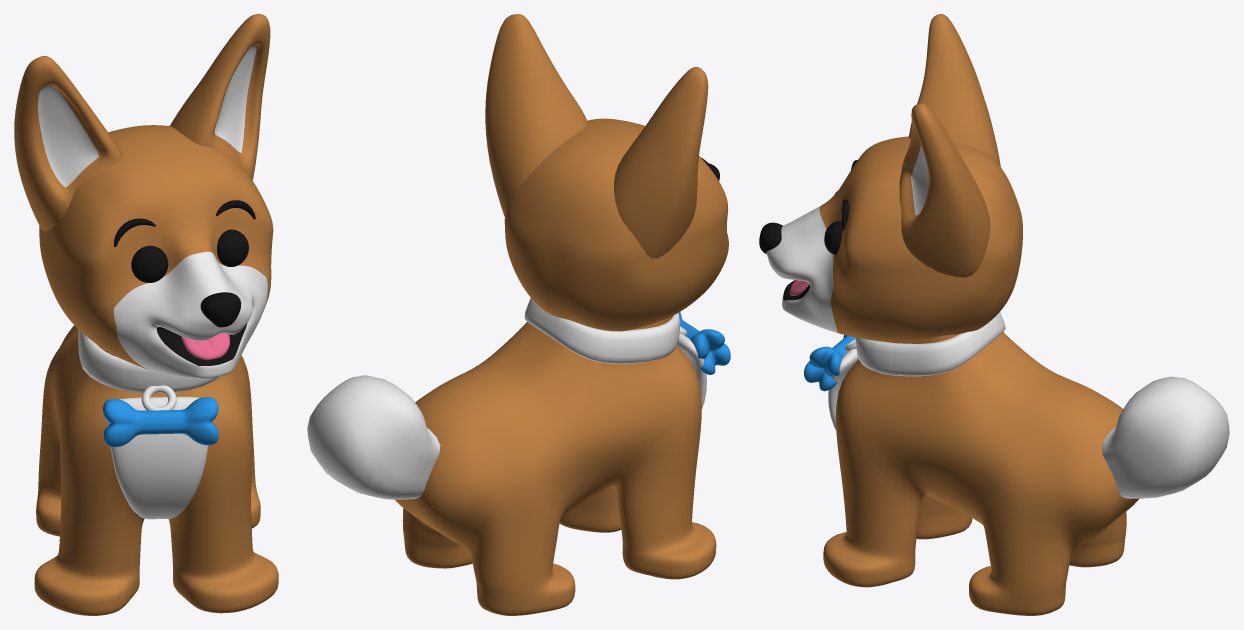
Rendered from Dog.glb.
The picture shows the model from 3 angles, left to right: view 1: azimuth 30°, elevation 25°; view 2: azimuth 150°, elevation 25°; view 3: azimuth 270°, elevation 25°; orthographic projection. The views are drawn at different scales.
Parts seen in each view (by area): view 1: Cube.243, Cube.010, Cube.244, Cube.014, Plane.032, Cube.013, Cylinder.091, Cube.245, Cylinder.090, Plane.071, BezierCircle; view 2: Cube.010, Cube.243, Cube.244, Cube.246, Cube.013, Plane.032, Cube.014; view 3: Cube.010, Cube.243, Cube.244, Cube.246, Cube.013, Plane.032, Cube.014.
Boxes of the visible parts, x1=… form: Cube.243: x1=39, y1=125, x2=273, y2=378; Cube.010: x1=34, y1=325, x2=278, y2=615; Cube.244: x1=14, y1=14, x2=270, y2=231; Cube.014: x1=106, y1=396, x2=208, y2=519; Plane.032: x1=103, y1=397, x2=218, y2=447; Cube.013: x1=78, y1=330, x2=218, y2=392; Cylinder.091: x1=131, y1=245, x2=168, y2=282; Cube.245: x1=200, y1=292, x2=241, y2=327; Cylinder.090: x1=217, y1=229, x2=248, y2=266; Plane.071: x1=181, y1=333, x2=229, y2=360; BezierCircle: x1=141, y1=385, x2=176, y2=410; Cube.010: x1=395, y1=315, x2=716, y2=615; Cube.243: x1=504, y1=118, x2=728, y2=331; Cube.244: x1=485, y1=14, x2=708, y2=258; Cube.246: x1=307, y1=375, x2=440, y2=499; Cube.013: x1=524, y1=298, x2=680, y2=363; Plane.032: x1=678, y1=312, x2=730, y2=374; Cube.014: x1=677, y1=333, x2=706, y2=409; Cube.010: x1=823, y1=332, x2=1139, y2=615; Cube.243: x1=766, y1=136, x2=1022, y2=342; Cube.244: x1=899, y1=14, x2=1000, y2=277; Cube.246: x1=1101, y1=376, x2=1229, y2=498; Cube.013: x1=855, y1=312, x2=1005, y2=376; Plane.032: x1=804, y1=335, x2=855, y2=391; Cube.014: x1=828, y1=348, x2=858, y2=430.
Bounding box in the file's own units: 3.02 × 5.35 × 4.63.
